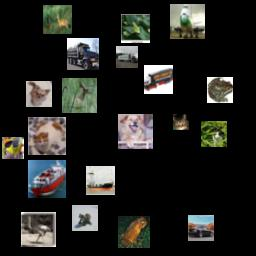airplane: (170, 4, 205, 39)
automobile: (188, 215, 214, 241)
bird: (21, 212, 56, 247), (2, 137, 24, 159)
cat: (28, 117, 66, 155), (201, 121, 227, 147), (173, 114, 189, 130)
deer: (62, 78, 97, 113), (43, 5, 72, 34)
dog: (118, 114, 153, 149), (26, 81, 52, 107)
frog: (118, 216, 150, 248), (121, 14, 150, 43), (207, 77, 233, 103), (72, 205, 98, 231)
ship: (28, 160, 66, 198), (86, 166, 115, 195)
truck: (67, 38, 99, 70), (144, 65, 173, 94), (116, 46, 138, 68)
